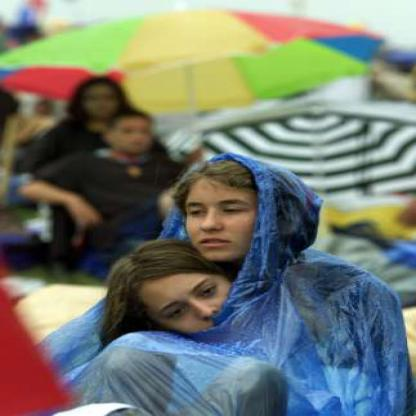face: (148, 247, 247, 354), (176, 163, 275, 264), (112, 116, 156, 156), (83, 84, 121, 121)
